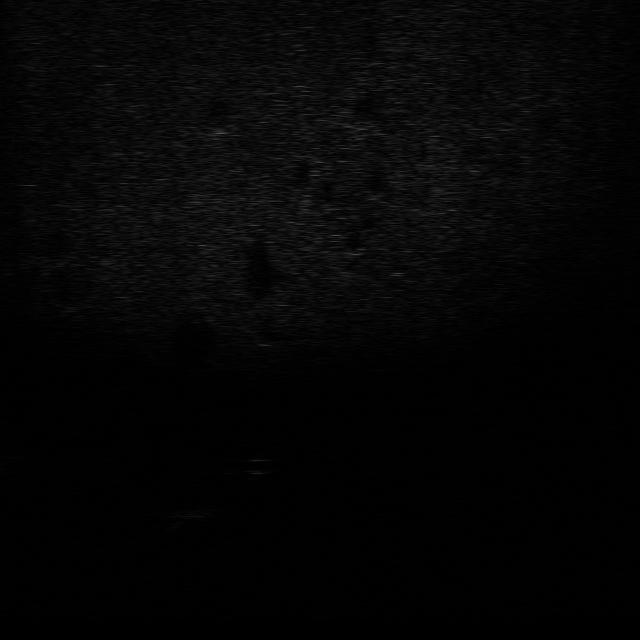ball: (226, 453, 282, 484)
square cage: (159, 502, 230, 531)
